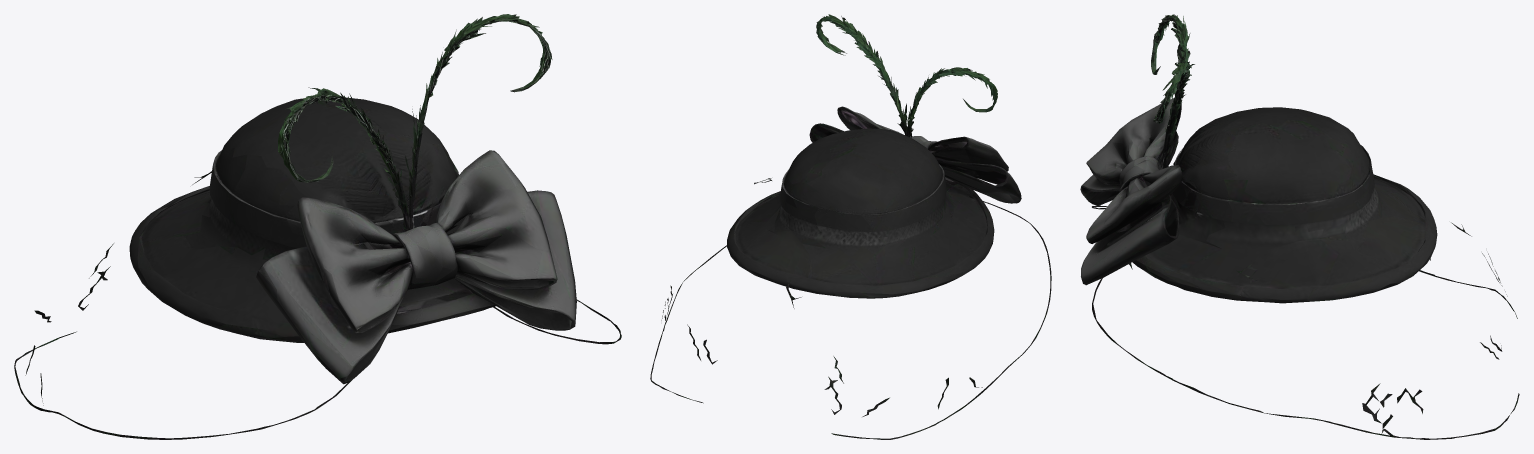
File: mk_fascinator_u1.glb
The picture shows the model from 3 angles, left to right: view 1: azimuth 30°, elevation 25°; view 2: azimuth 150°, elevation 25°; view 3: azimuth 270°, elevation 25°; orthographic projection. The views are drawn at different scales.
Bounding box in the file's own units: 1.9 × 1.54 × 1.83.
1 material, 1 textured.
